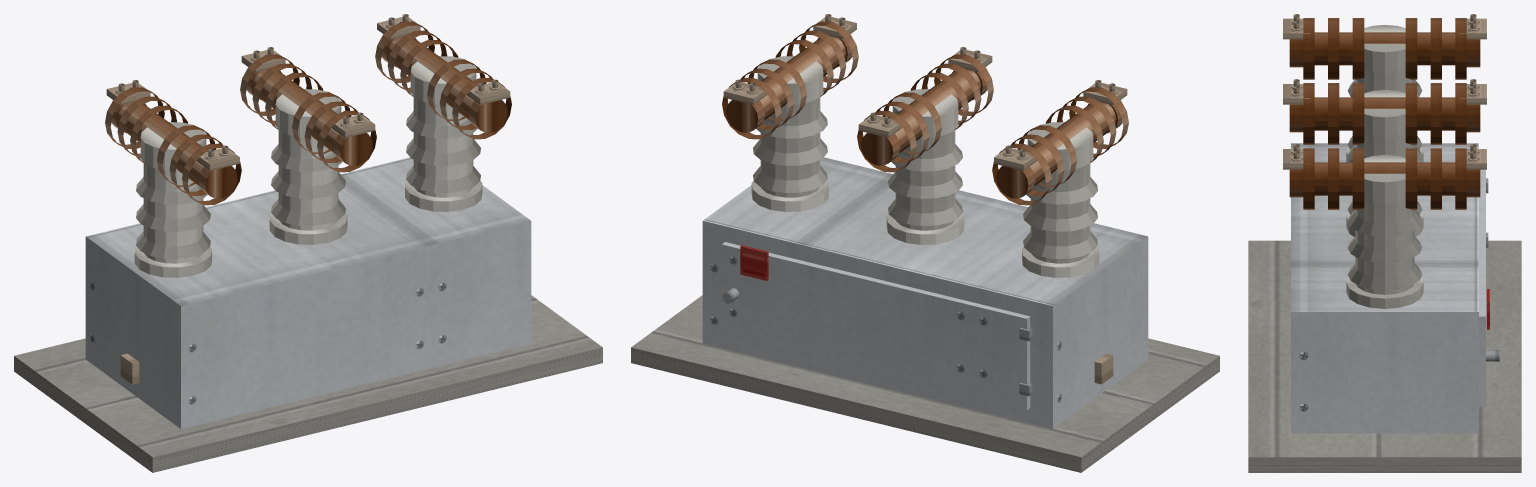
File: mv_breaker.obj
The picture shows the model from 3 angles, left to right: view 1: azimuth 30°, elevation 25°; view 2: azimuth 150°, elevation 25°; view 3: azimuth 270°, elevation 25°; orthographic projection.
Parts seen in each view (by area): view 1: cabinet, pad, pole_2, pole_1, pole_3, insulator_6, insulator_4, insulator_5, insulator_2, insulator_3, insulator_1; view 2: cabinet, door, pad, pole_2, pole_1, pole_3, insulator_3, insulator_1, insulator_2, insulator_5, insulator_6, insulator_4 (+1 smaller); view 3: cabinet, pad, pole_3, insulator_1, insulator_4, insulator_2, insulator_5, insulator_3, insulator_6, pole_2, pole_1, door.
Boxes of the visible parts, x1,y1,x2,y2 form: cabinet: (85,157,531,428); pad: (14,295,602,472); pole_2: (269,89,347,244); pole_1: (134,122,211,277); pole_3: (405,56,482,211); insulator_6: (427,59,511,139); insulator_4: (157,125,241,205); insulator_5: (292,92,376,172); insulator_2: (240,47,323,129); insulator_3: (375,14,458,96); insulator_1: (105,80,187,162); cabinet: (702,157,1148,428); door: (721,242,1032,410); pad: (631,295,1219,472); pole_2: (886,89,964,244); pole_1: (1022,122,1099,277); pole_3: (751,56,828,211); insulator_3: (722,59,806,139); insulator_1: (992,125,1076,205); insulator_2: (857,92,941,172); insulator_5: (910,47,993,129); insulator_6: (775,14,858,96); insulator_4: (1046,80,1128,162); cabinet: (1291,143,1478,433); pad: (1248,240,1521,472); pole_3: (1346,155,1423,308); insulator_1: (1385,14,1486,79); insulator_4: (1283,14,1384,79); insulator_2: (1385,79,1486,144); insulator_5: (1283,79,1384,144); insulator_3: (1385,144,1486,209); insulator_6: (1283,144,1384,209); pole_2: (1346,90,1423,236); pole_1: (1346,25,1423,162); door: (1479,169,1499,406).
Size of the model in its own units: 0.9 by 0.5432 by 0.48.
